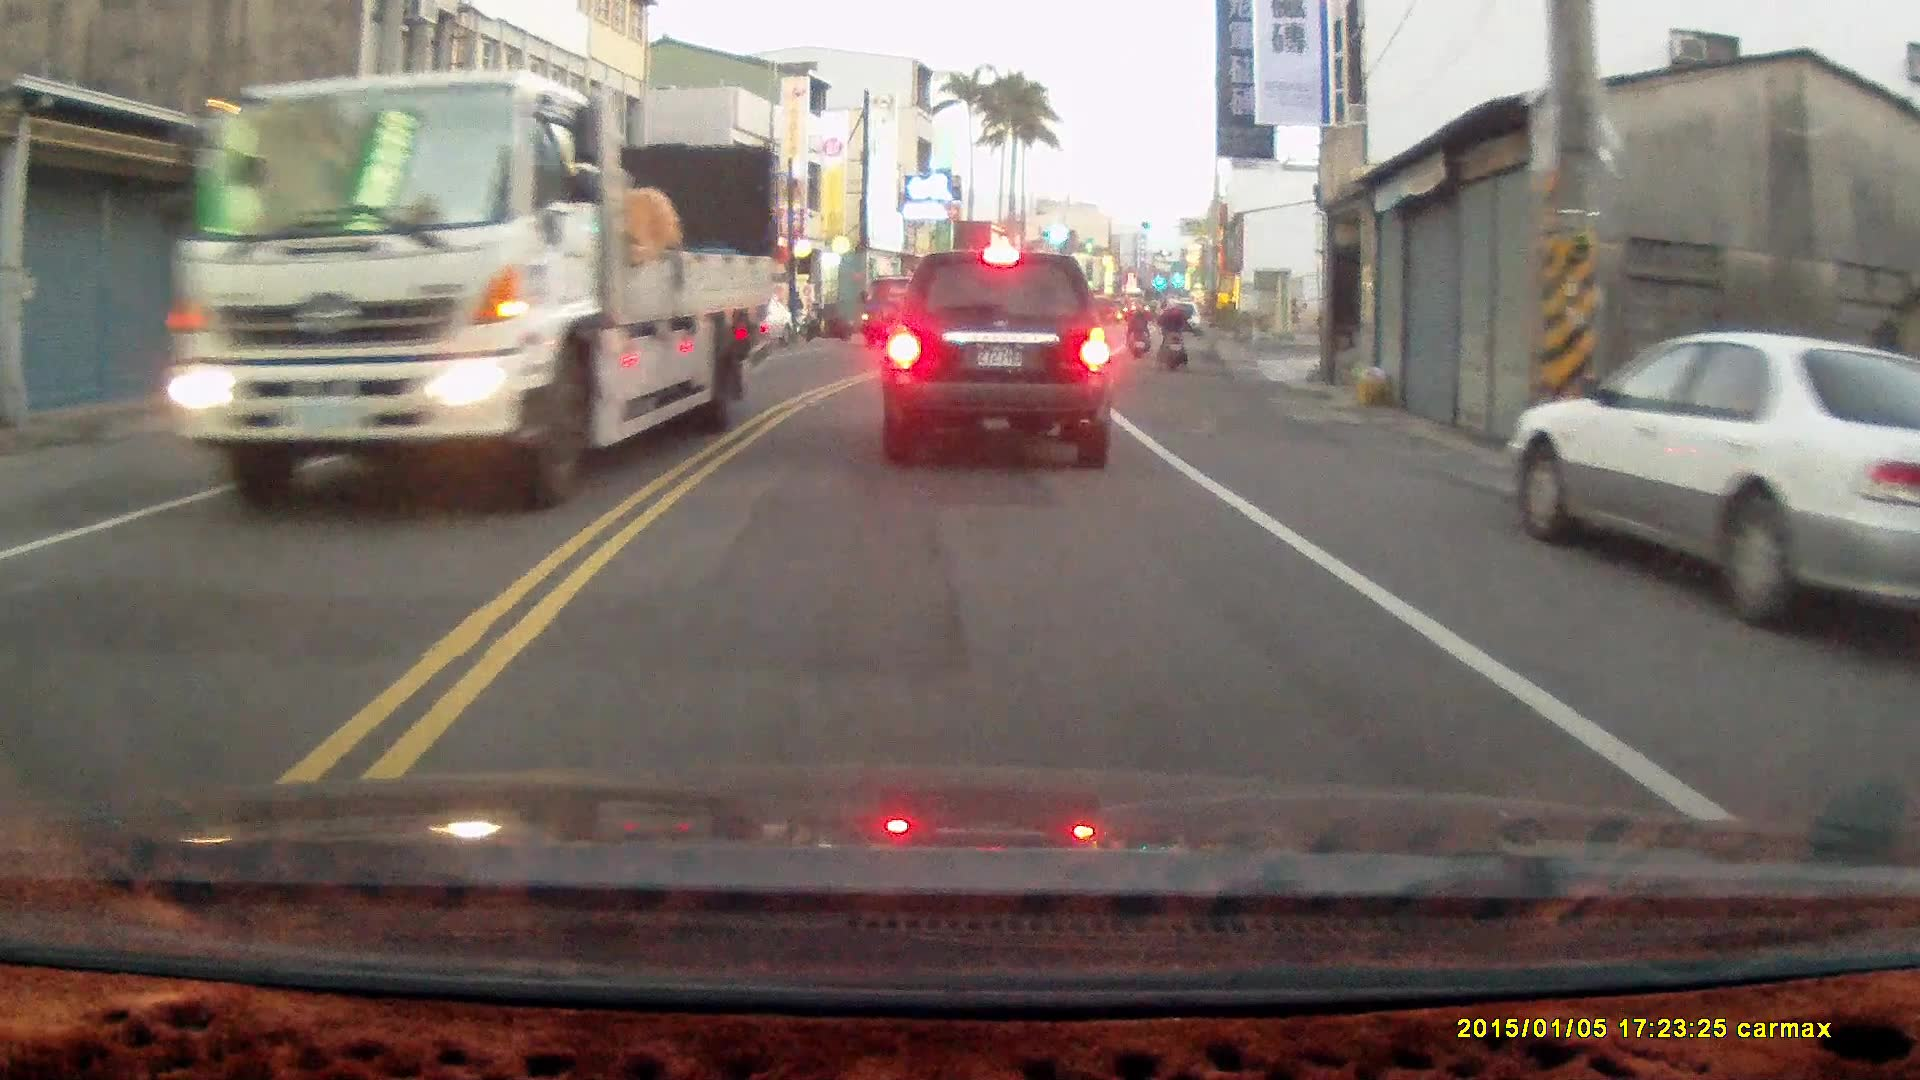rider: (1156, 293, 1187, 372), (1124, 301, 1149, 360)
vehicle: (166, 68, 785, 516), (1508, 327, 1920, 639), (879, 245, 1118, 467), (718, 291, 797, 348)
